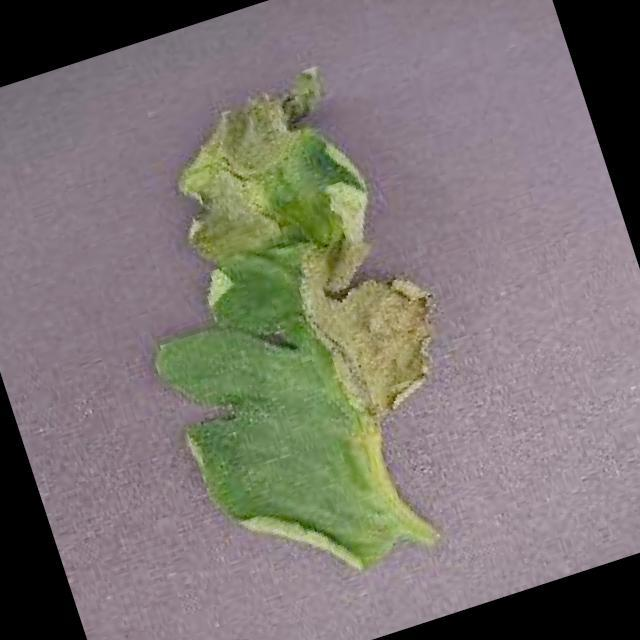Tomato late blight leaf: (78, 47, 504, 610)
